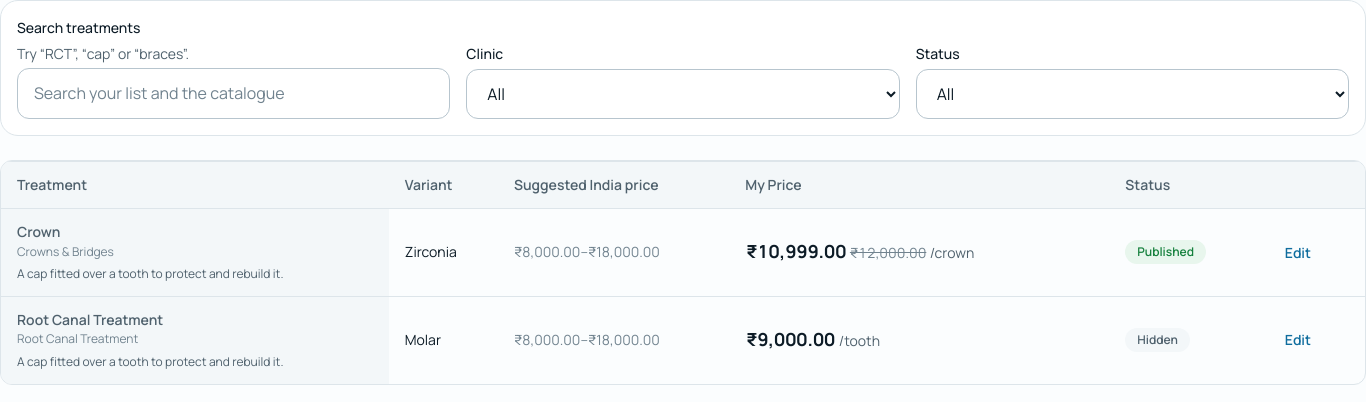
Scenario: search and filters › filters to hidden rows
The image size is (1366, 402).
Select "Hidden or disabled" in the dropdown labelled "Status" at (1132, 94), box [916,69,1349,119]
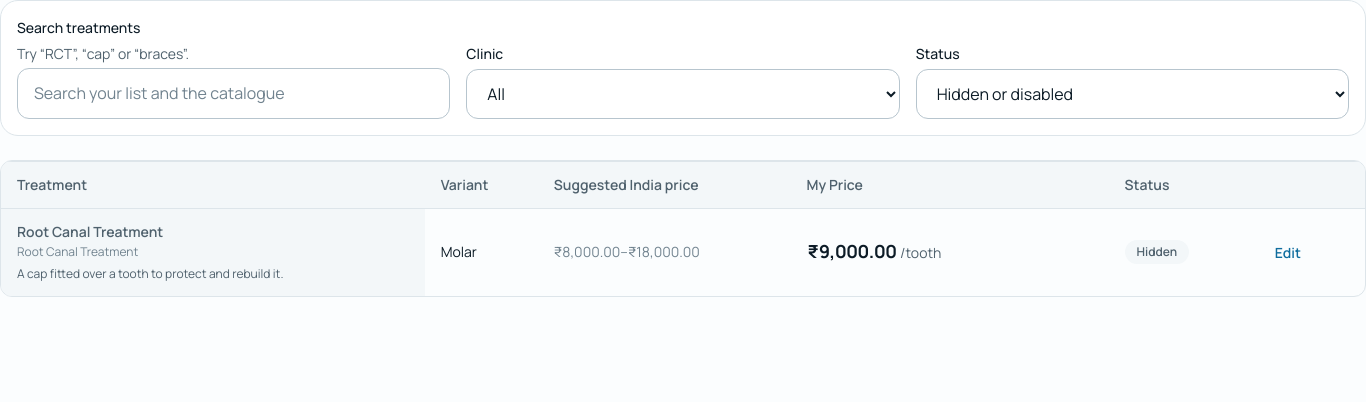
Expected: the table is shown, [1,161,1365,296]
Expected: the text "Crown" is gone
